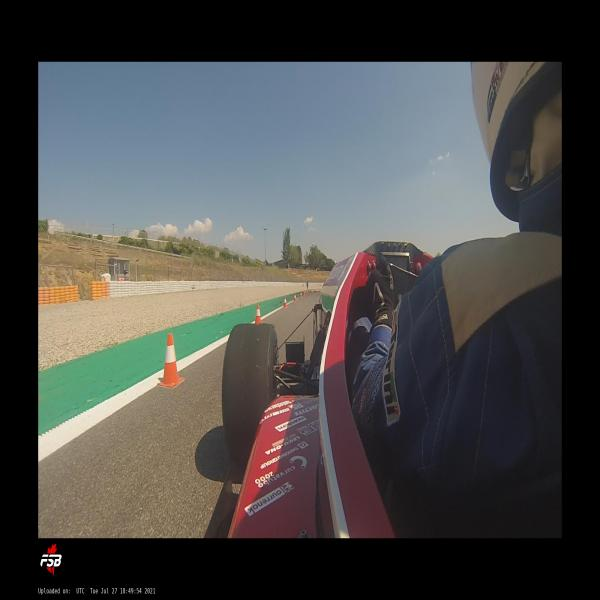orange_cone: (158, 334, 184, 388), (255, 304, 262, 323), (284, 295, 287, 308), (294, 292, 296, 302), (300, 291, 302, 298), (305, 290, 307, 295), (304, 291, 305, 296)
